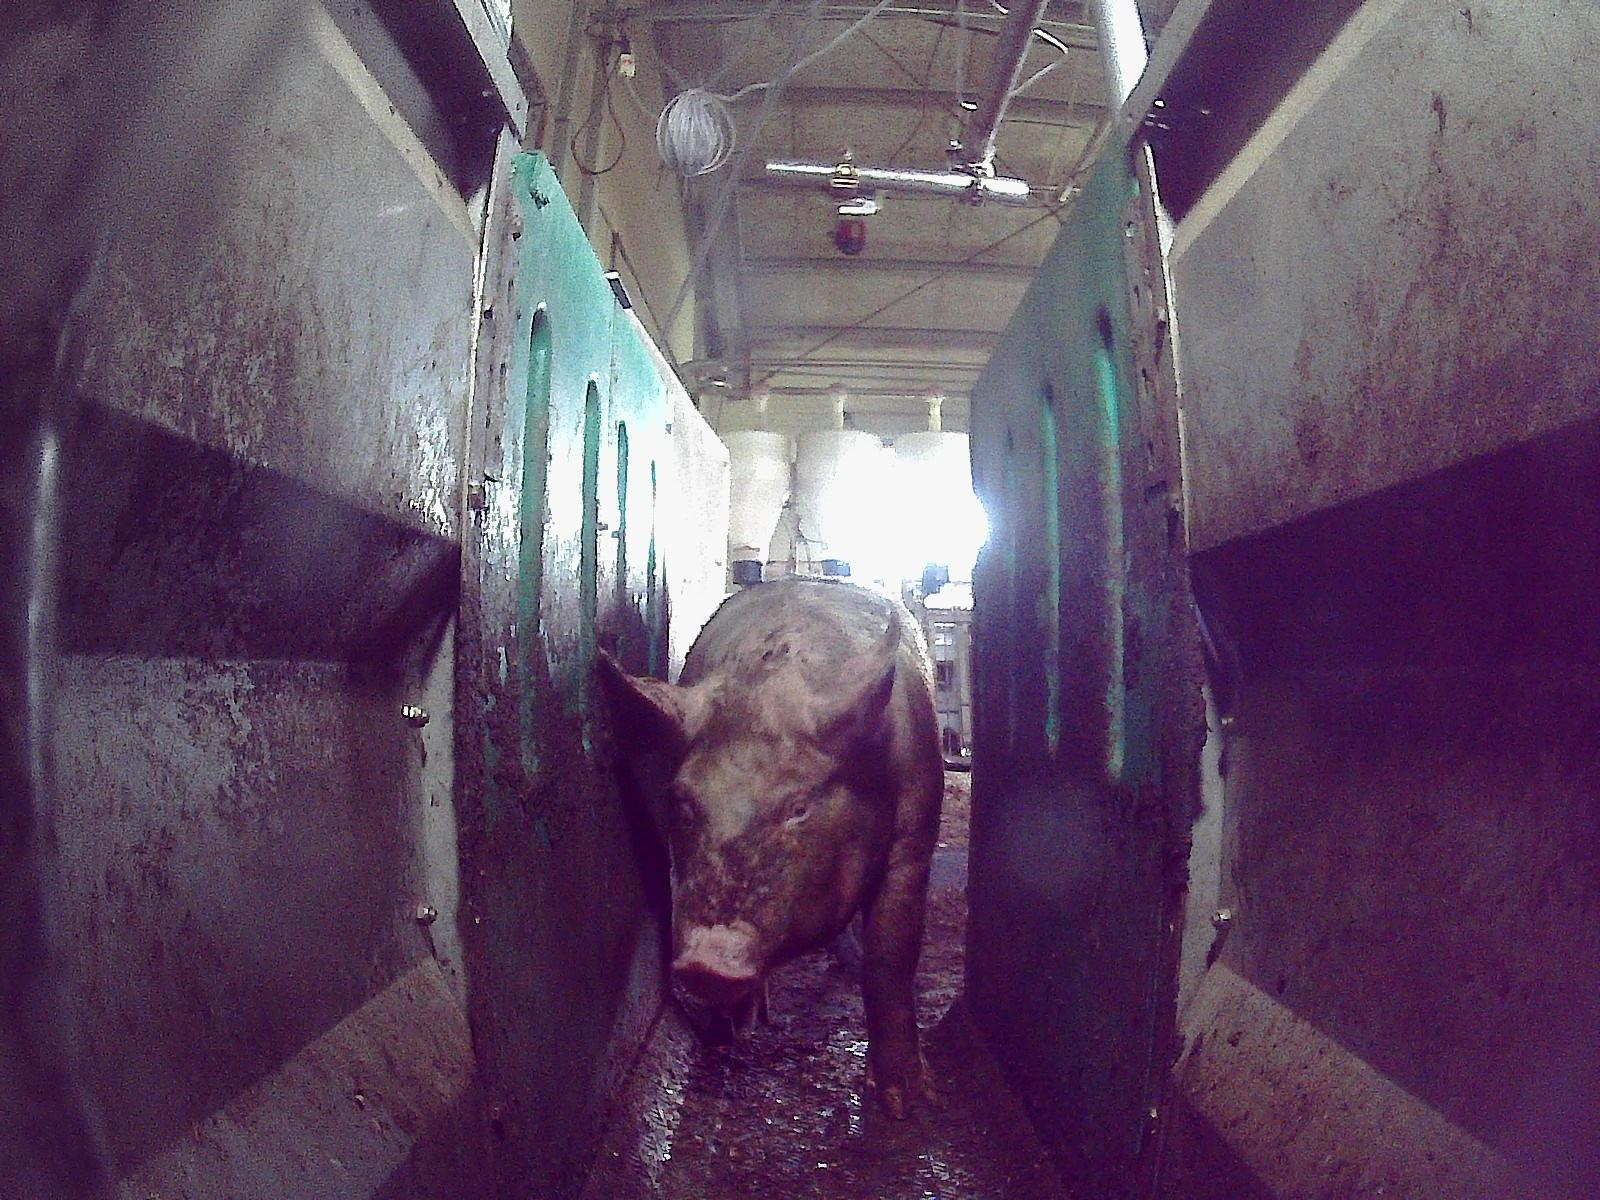Face: (665, 681, 863, 996)
